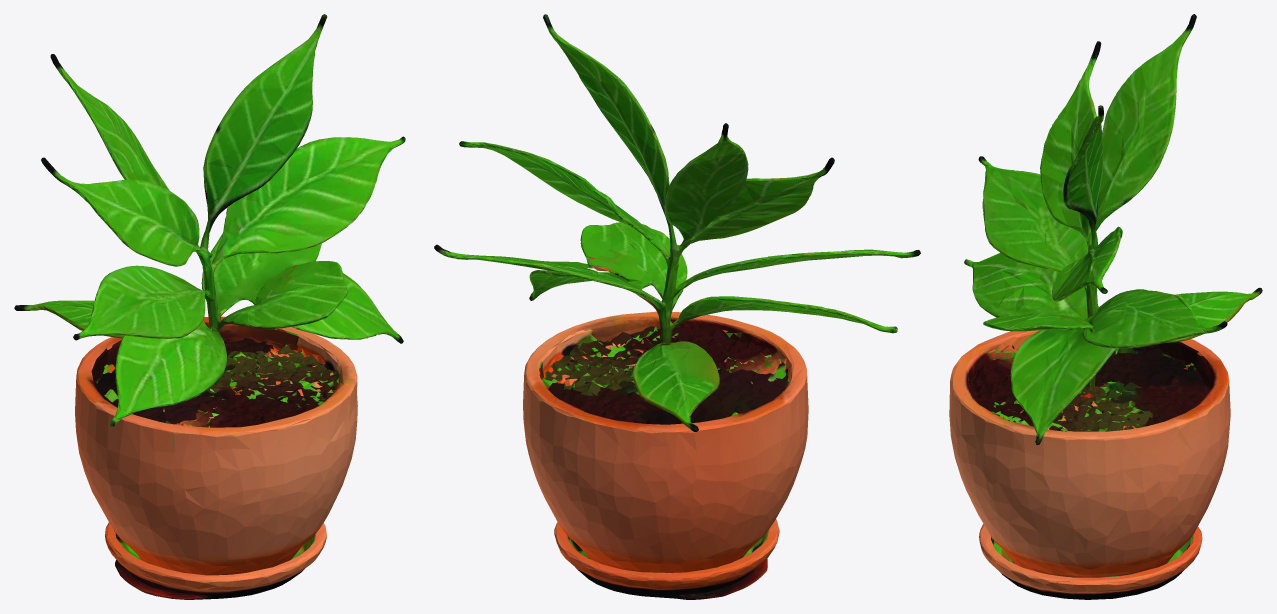
Rendered from growth-planter-b-generated-2026-04-18T01-36-15-986Z.low.glb.
3 renders of one model, left to right at view 1: azimuth 30°, elevation 25°; view 2: azimuth 150°, elevation 25°; view 3: azimuth 270°, elevation 25°, orthographic.
Parts seen in each view (by area): view 1: temp_mesh.ply; view 2: temp_mesh.ply; view 3: temp_mesh.ply.
Boxes of the visible parts, x1,y1,x2,y2 form: temp_mesh.ply: [14, 14, 405, 599]; temp_mesh.ply: [434, 14, 920, 599]; temp_mesh.ply: [949, 14, 1262, 599].
Bounding box in the file's own units: 1.57 × 1.97 × 1.08.
Materials: 1 (1 with a texture image).
